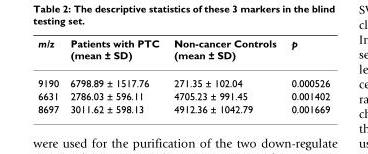table: (37, 36, 329, 114)
table column: (166, 36, 283, 114), (63, 36, 166, 114), (283, 36, 329, 114), (37, 36, 63, 114)
table column header: (37, 36, 329, 68)
table row: (37, 36, 329, 68), (37, 68, 329, 89), (37, 89, 329, 102), (37, 102, 329, 114)
